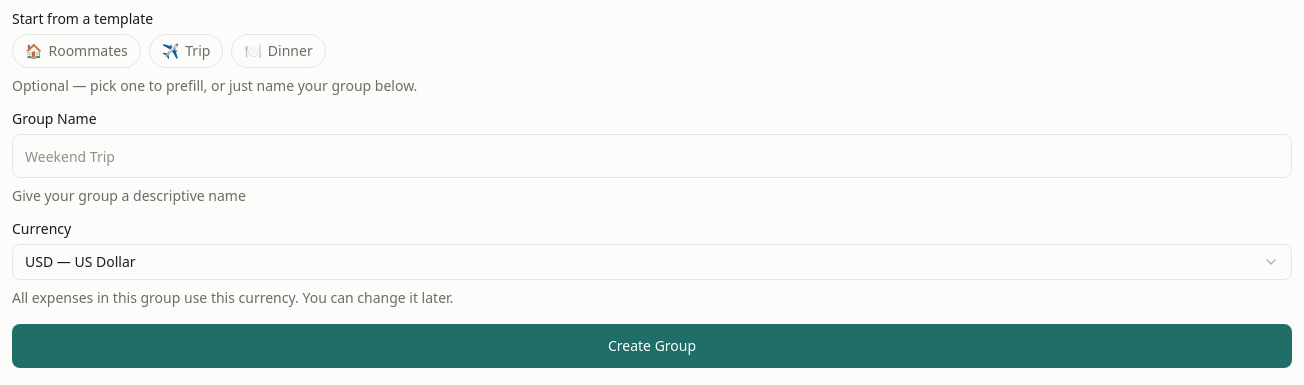
Test: CreateGroupForm templates › prefills the name and shows the blurb when a template is picked
Click the button "🏠 Roommates" at (76, 51), box [12,34,141,68]
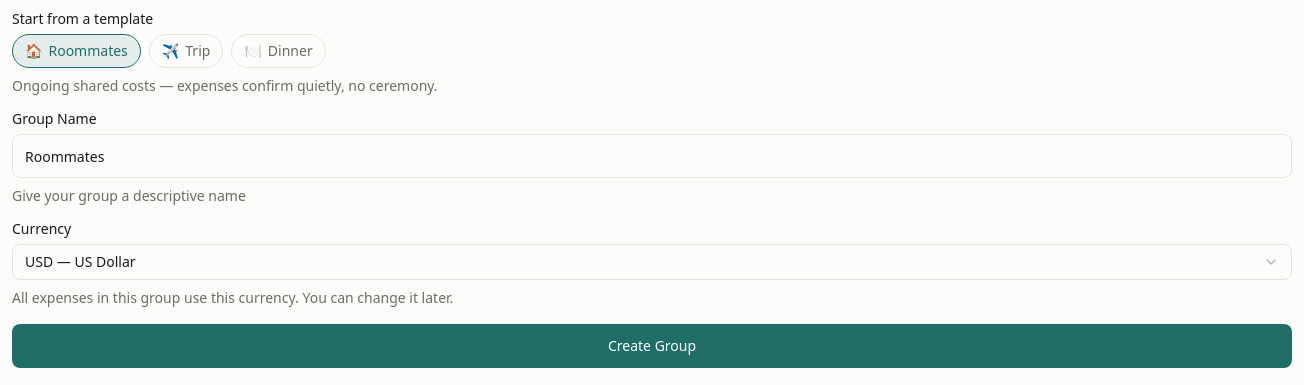
expect the field labelled "Group Name" holds "Roommates": met, box [12,134,1292,178]
expect the text "expenses confirm quietly" is shown: met, box [12,76,438,95]
